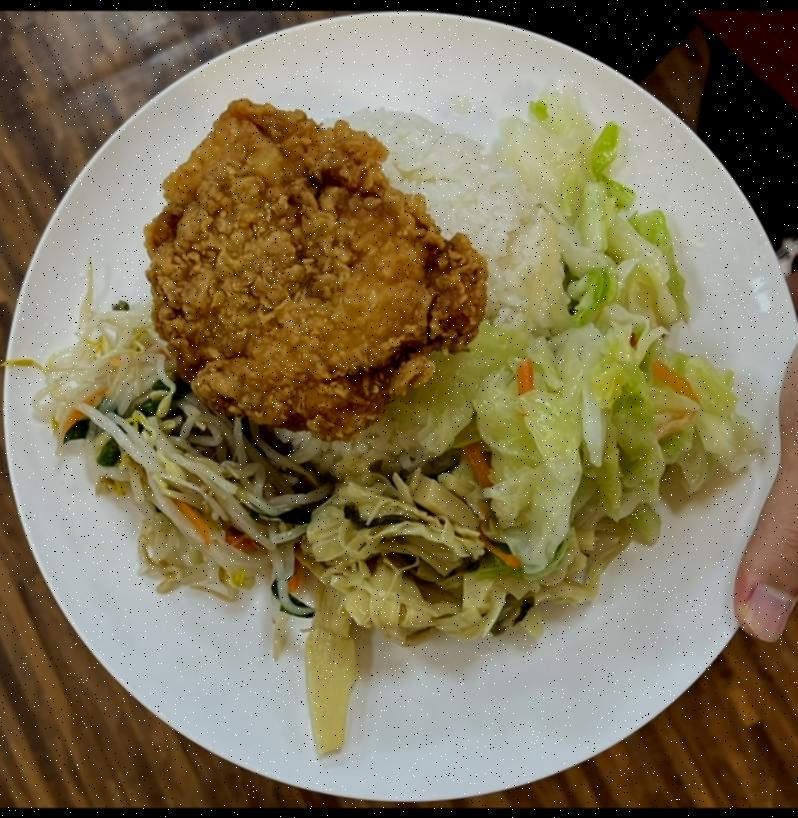kara chicken leg steak: (144, 92, 480, 431)
plate: (0, 10, 798, 794)
side dish: (475, 104, 757, 563), (30, 326, 308, 600), (300, 462, 522, 761)
white rice: (339, 102, 520, 320)
